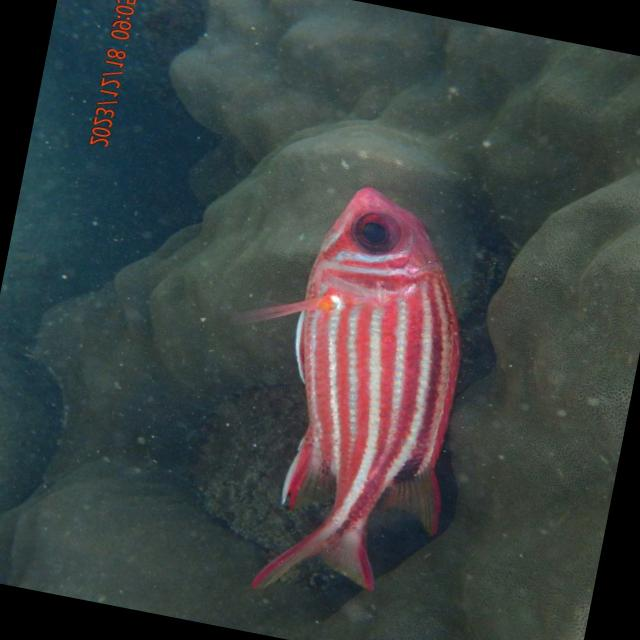Asker Baligi: (194, 162, 518, 624)
